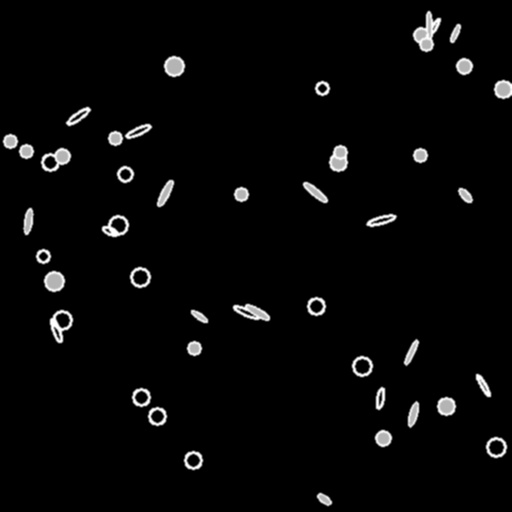pseudomonas: (302, 181, 328, 203), (65, 106, 91, 126), (156, 179, 174, 207), (244, 303, 270, 321), (232, 304, 260, 320), (366, 213, 396, 227), (125, 123, 151, 139), (403, 339, 419, 365), (475, 373, 491, 397), (49, 317, 63, 343), (425, 17, 441, 39), (406, 402, 420, 427), (23, 208, 33, 234), (457, 187, 473, 203), (190, 309, 208, 323), (449, 23, 461, 43), (316, 492, 332, 506), (375, 387, 385, 409), (101, 225, 119, 237), (426, 12, 432, 38)
synechocystis: (45, 272, 63, 290), (131, 268, 149, 286), (109, 216, 127, 234), (487, 438, 505, 456), (53, 311, 71, 329), (353, 357, 371, 375), (165, 57, 183, 75), (185, 452, 201, 468), (133, 389, 149, 405), (495, 81, 511, 97), (308, 298, 324, 314), (42, 154, 58, 170), (330, 154, 346, 170), (149, 408, 165, 424), (438, 398, 454, 414), (376, 431, 390, 445), (414, 28, 428, 42), (457, 59, 471, 73), (118, 167, 132, 181), (55, 149, 69, 163), (188, 342, 200, 354), (316, 82, 328, 94), (235, 188, 247, 200), (37, 250, 49, 262), (334, 146, 346, 158), (414, 149, 426, 161), (420, 38, 432, 50), (109, 132, 121, 144), (4, 135, 16, 147), (20, 145, 32, 157)
